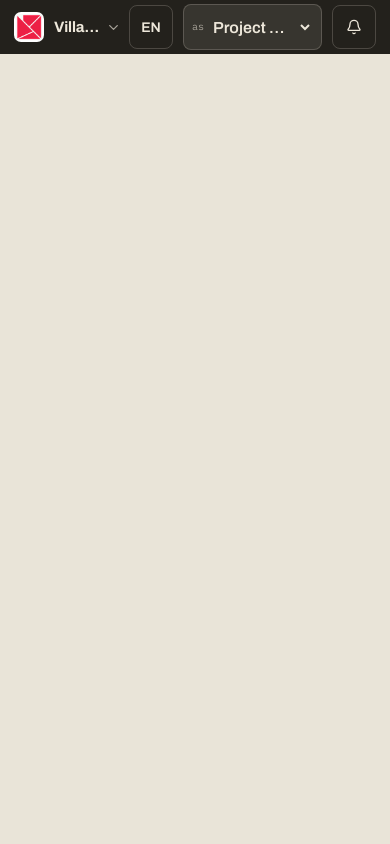
it: switching from the top bar goes through the existing store path › opens the sheet, lists memberships, and marks the active one
Click the button with test id "mobile-project-switcher" at (92, 27), box x1=54 y1=5 x2=129 y2=49
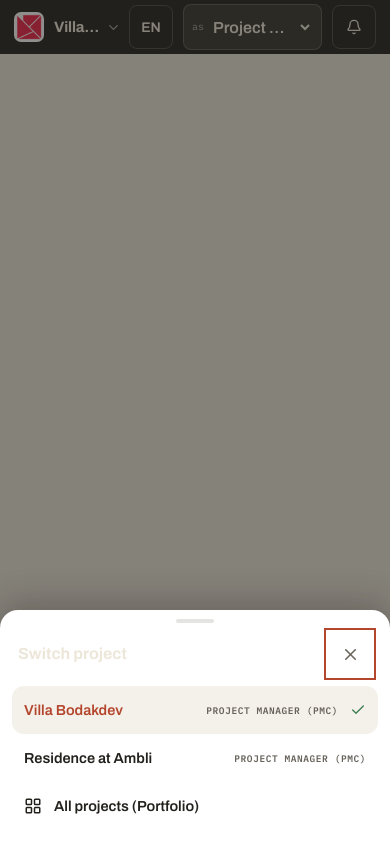
Expected: the dialog with test id "project-sheet" is shown, x1=0 y1=610 x2=389 y2=843
